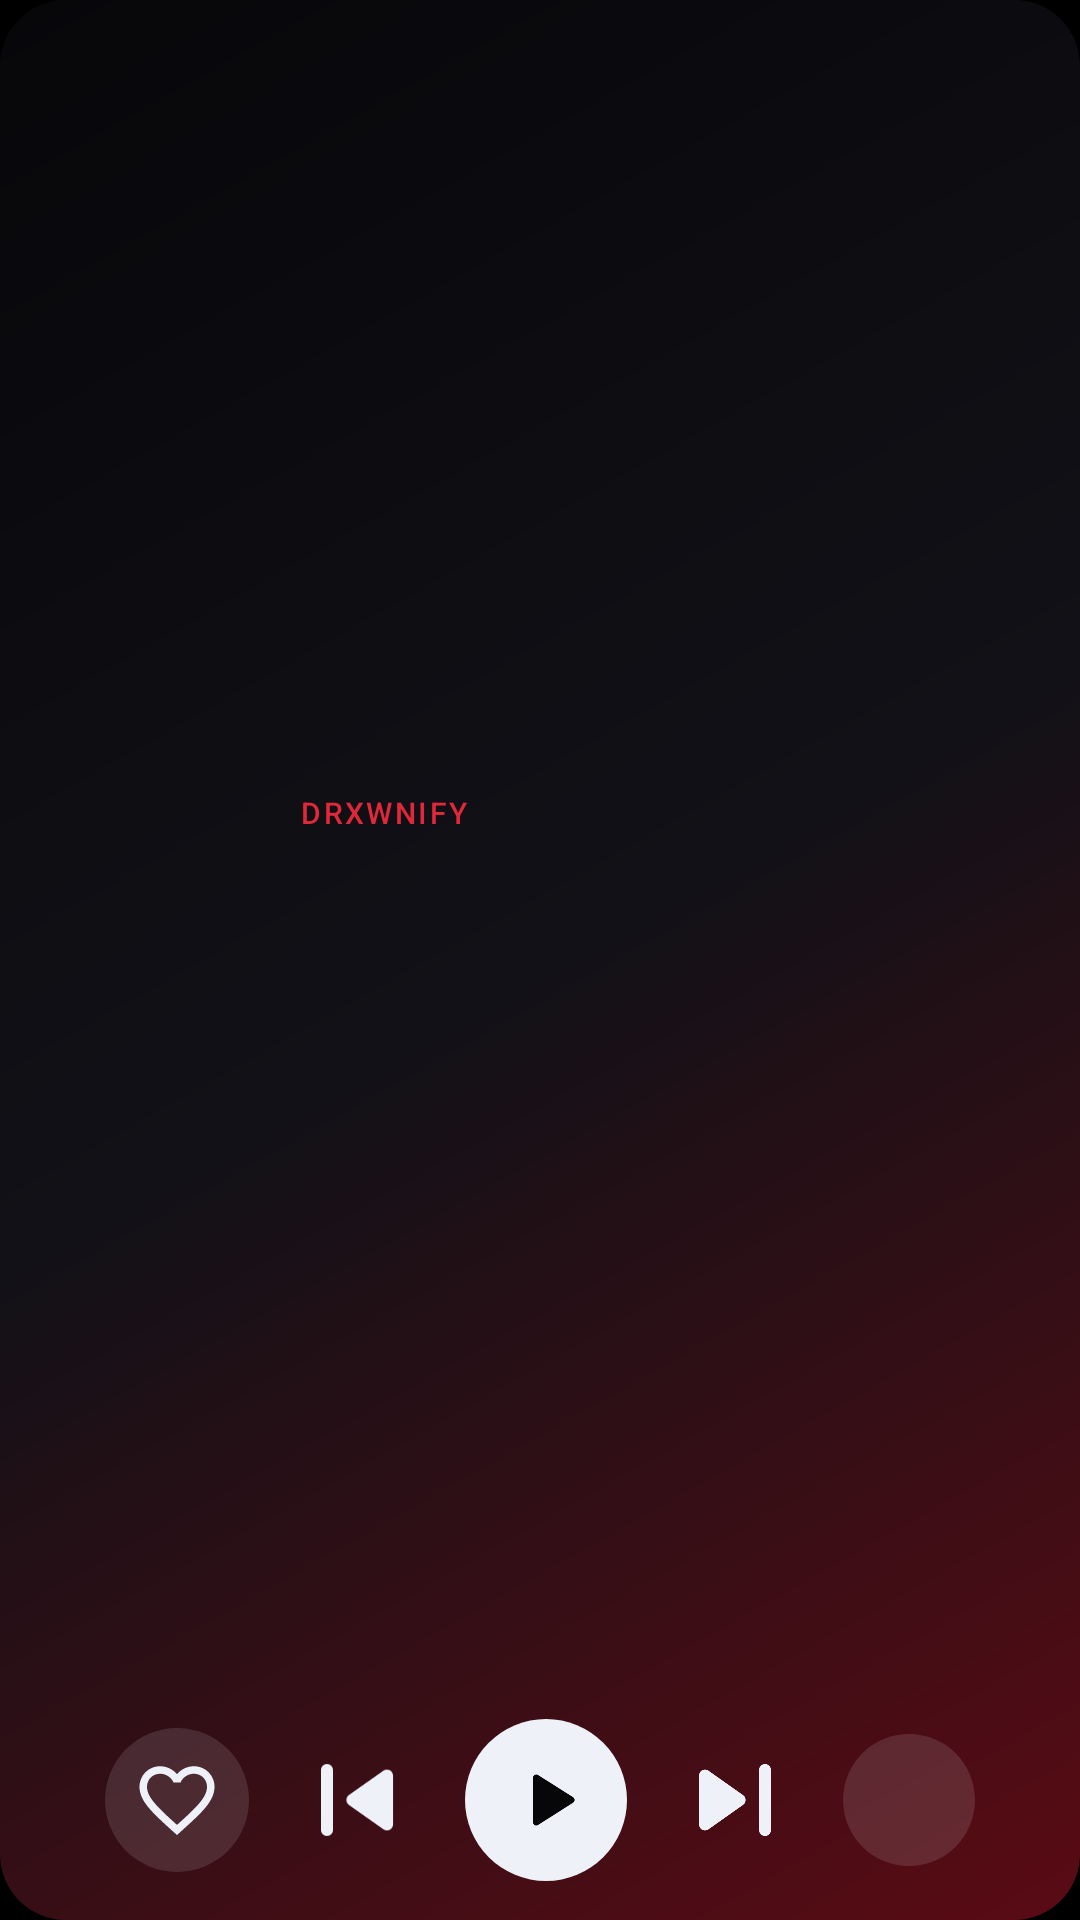

Screen size 1080x1920. Icon name, then its box in pixels as (x1, y1, x2, y2):
heart: (105, 1728, 249, 1872)
Next: (699, 1764, 771, 1836)
Play: (465, 1719, 627, 1881)
Previous: (321, 1764, 393, 1836)
